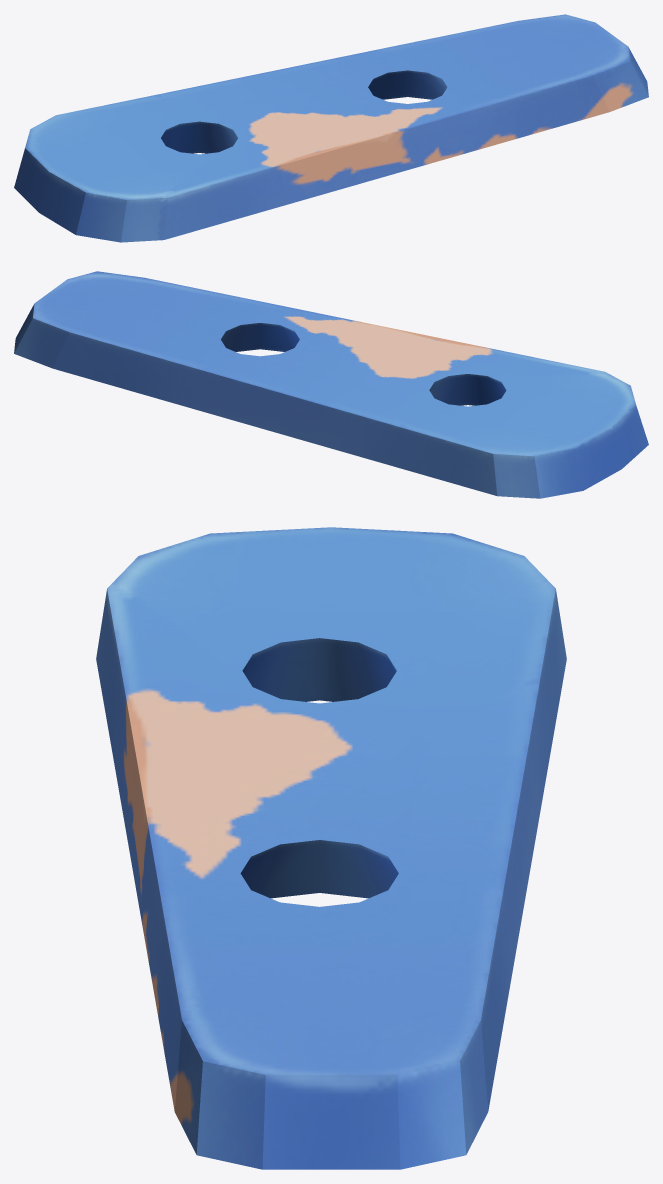
Rendered from zhishengji08.FBX.
3 views of the same model, one above another, from view 1: azimuth 30°, elevation 25°; view 2: azimuth 150°, elevation 25°; view 3: azimuth 270°, elevation 25° (orthographic). The views are drawn at different scales.
Parts seen in each view (by area): view 1: zhishengji08; view 2: zhishengji08; view 3: zhishengji08.
Boxes of the visible parts, box(x1,y1,x2,y2) form: zhishengji08: box(14, 14, 648, 242); zhishengji08: box(14, 271, 648, 498); zhishengji08: box(96, 527, 566, 1169).
Size of the model in its own units: 39 by 2.44 by 13.5.
